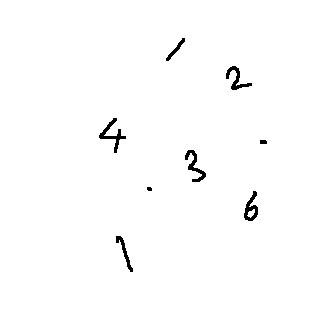.: (252, 135, 285, 159), (145, 186, 158, 199)
1: (107, 228, 145, 277), (160, 34, 194, 65)
2: (222, 64, 259, 95)
3: (180, 141, 215, 198)
4: (88, 115, 136, 167)
6: (240, 181, 270, 231)
